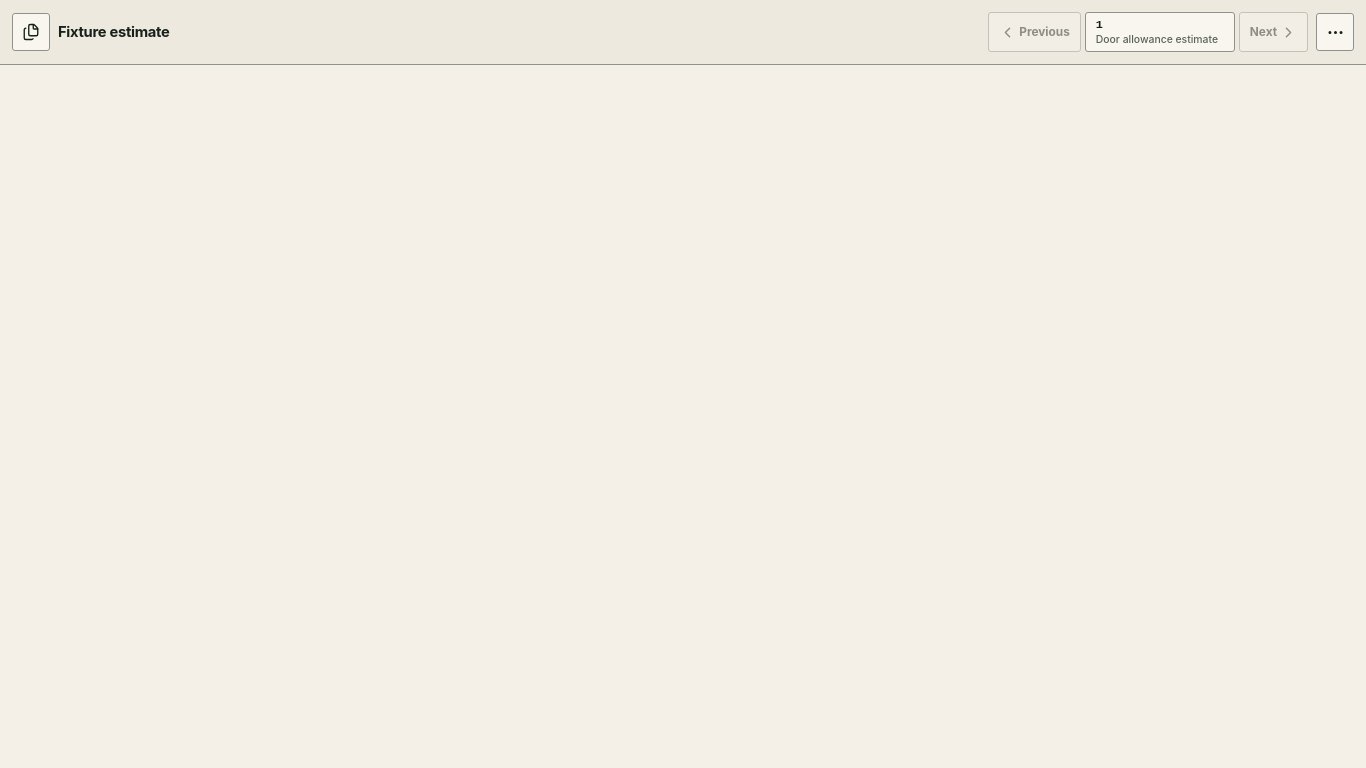
Test: the document picker labels a new manifest kind without treating it as a submittal
Click the button named "Documents": (31, 32) [12, 13, 50, 51]
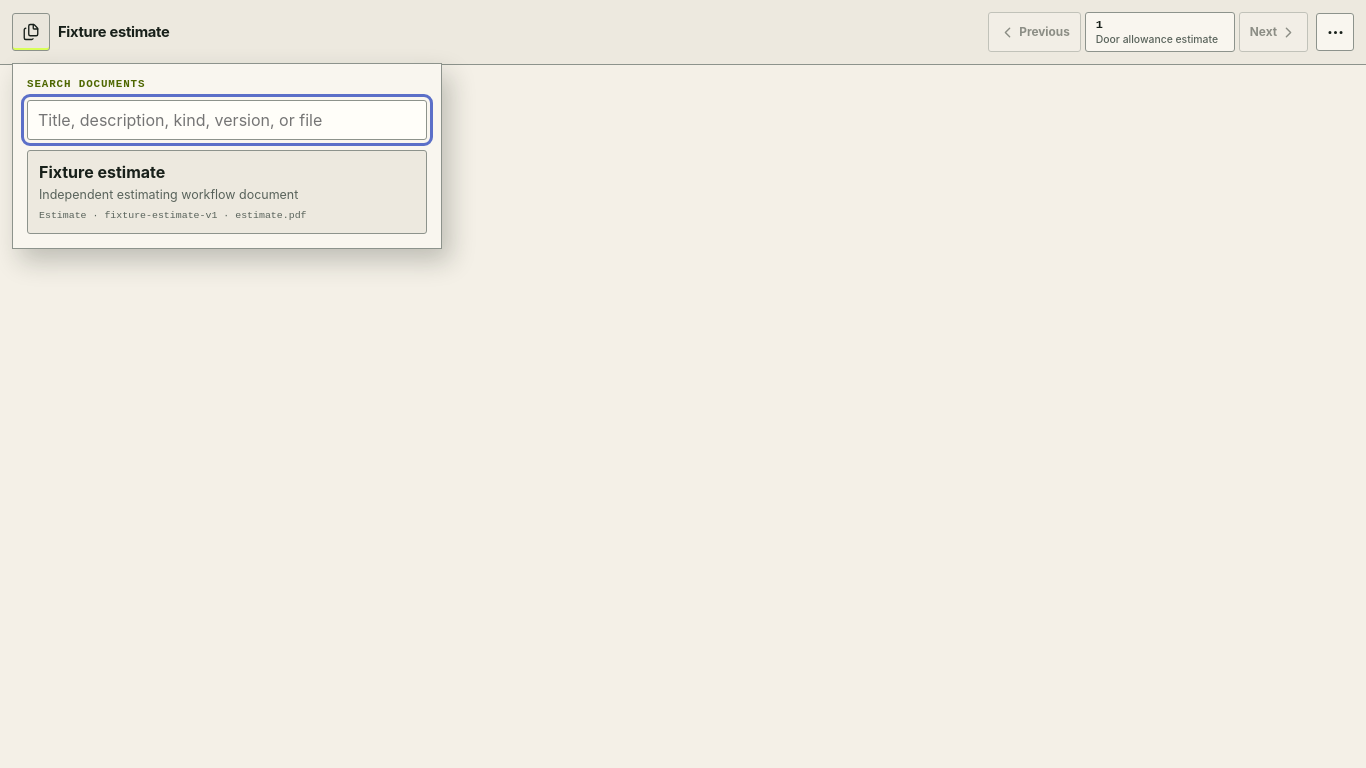
expect the text "Estimate · fixture-estimate-v1 · estimate.pdf" is shown: met, box [39, 210, 306, 221]
